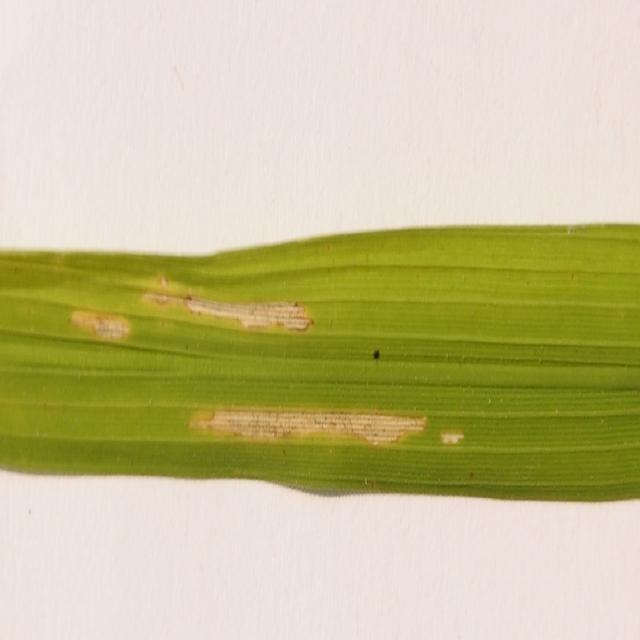bacterial_leaf_blight: (191, 409, 426, 445), (145, 294, 312, 330), (72, 310, 130, 339), (443, 432, 463, 444)
